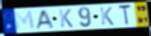9: (78, 6, 94, 28)
A: (34, 9, 55, 31)
K: (58, 9, 75, 29), (99, 6, 115, 27)
M: (13, 10, 36, 32)
T: (118, 4, 133, 27)
